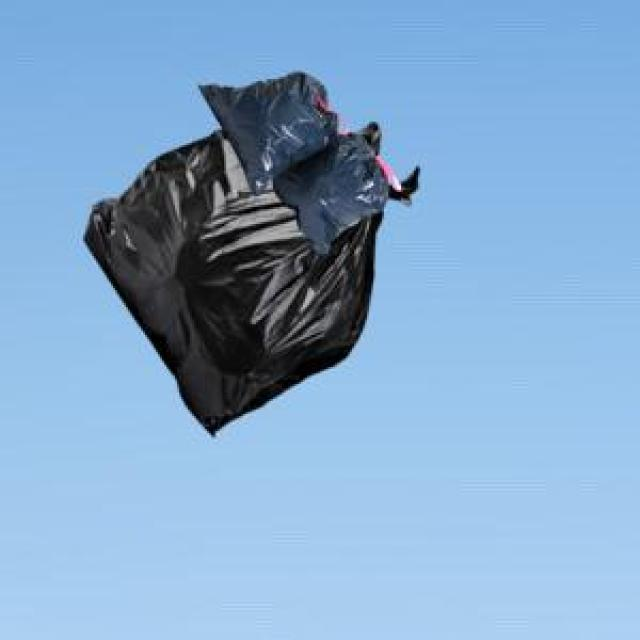Trashbag: (108, 178, 304, 410), (286, 142, 386, 251), (210, 72, 318, 170)
